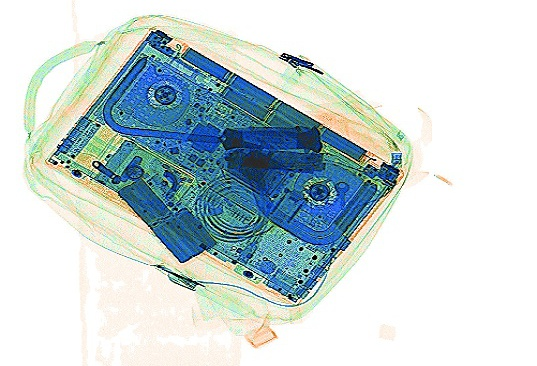knife: (217, 119, 323, 152), (221, 145, 327, 173)
powerbank: (113, 168, 218, 263)
